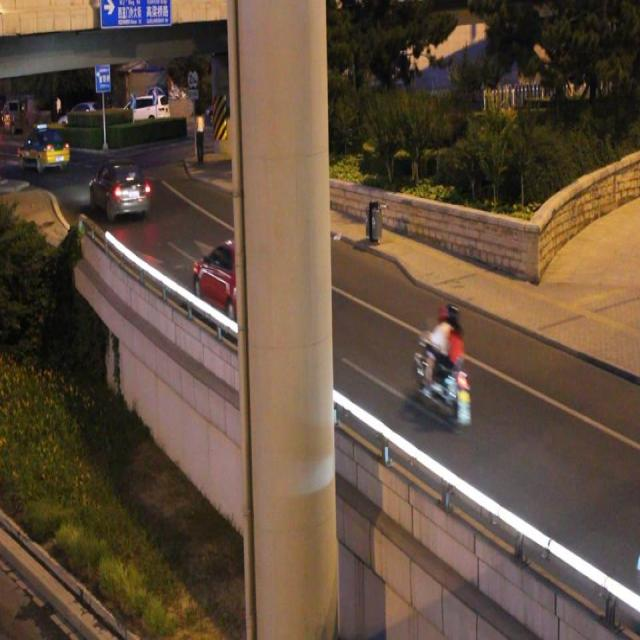car: (194, 238, 261, 314), (90, 163, 148, 215), (20, 127, 69, 169)
